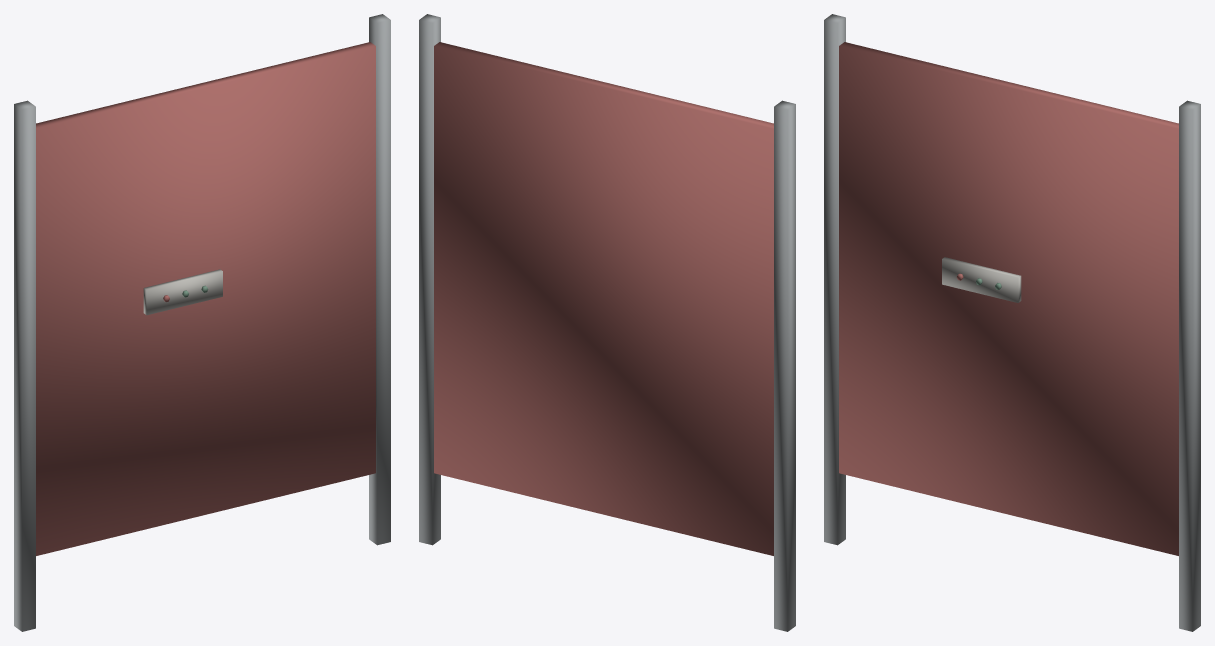
The model's file is welding_screen__compact.glb.
3 views of the same model, side by side, from view 1: azimuth 30°, elevation 25°; view 2: azimuth 150°, elevation 25°; view 3: azimuth 330°, elevation 25° (orthographic).
Visible parts, largest first — view 1: world; view 2: world; view 3: world.
Boxes of the visible parts, x1,y1,x2,y2 form: world: (14, 14, 390, 631); world: (419, 14, 795, 631); world: (824, 14, 1200, 631).
Bounding box in the file's own units: 1.13 × 1.53 × 0.0697.
